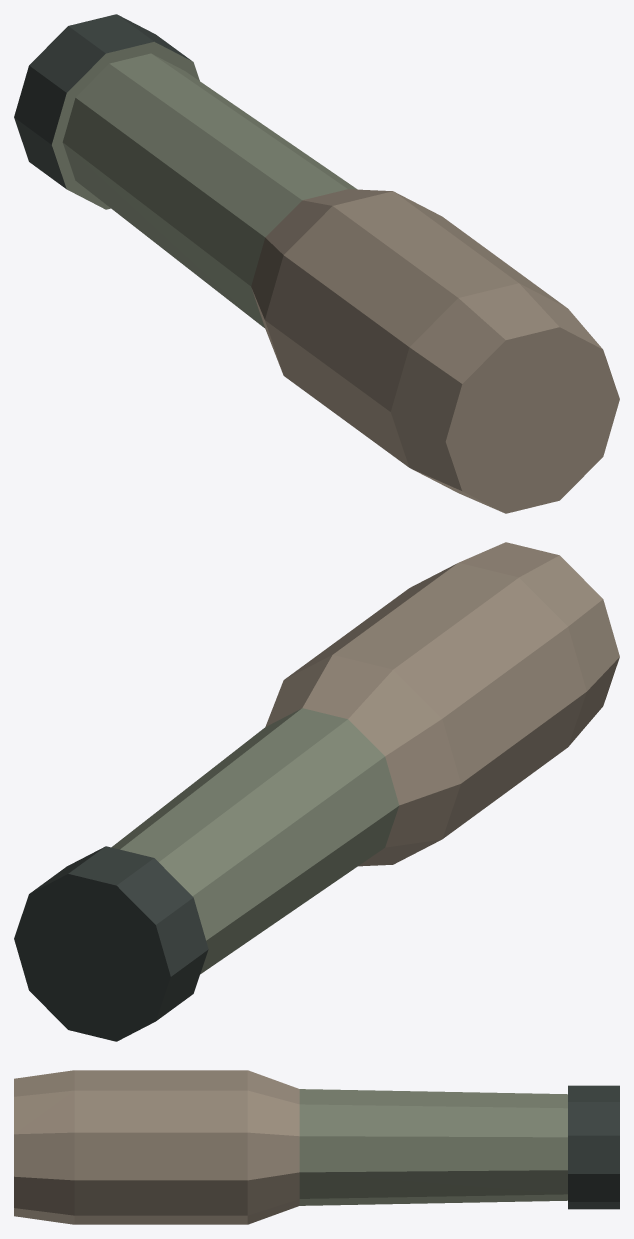
Rendered from centipede_burner_weapon.obj.
3 renders of one model, top to bottom at view 1: azimuth 30°, elevation 25°; view 2: azimuth 150°, elevation 25°; view 3: azimuth 270°, elevation 25°, orthographic. The views are drawn at different scales.
Visible parts, largest first — view 1: centipede_burner_weapon; view 2: centipede_burner_weapon; view 3: centipede_burner_weapon.
Boxes of the visible parts, left/top/right/bottom form: centipede_burner_weapon: left=14, top=14, right=619, bottom=513; centipede_burner_weapon: left=14, top=542, right=619, bottom=1041; centipede_burner_weapon: left=14, top=1070, right=619, bottom=1224.
Bounding box in the file's own units: 0.18 × 0.1712 × 0.7.
